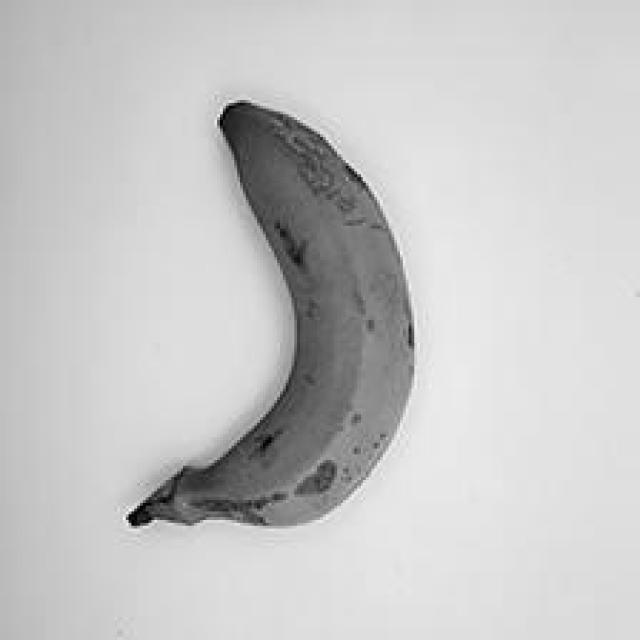Raw: (107, 80, 442, 546)
